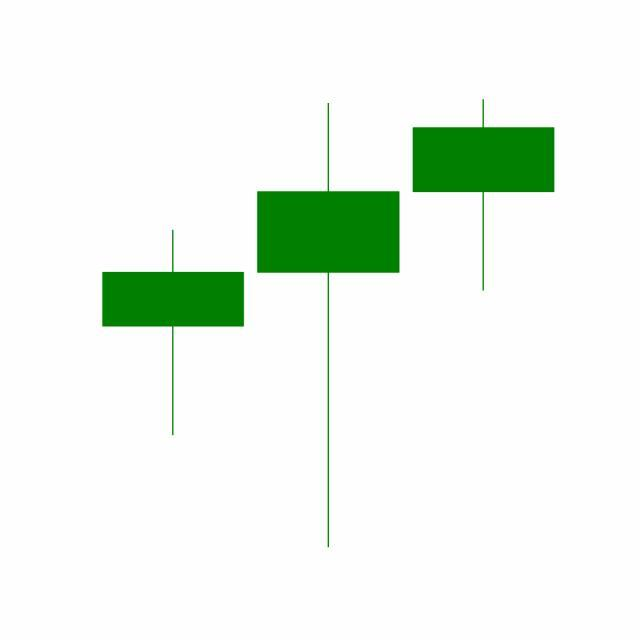Dragonfly Doji: (406, 97, 562, 293)
